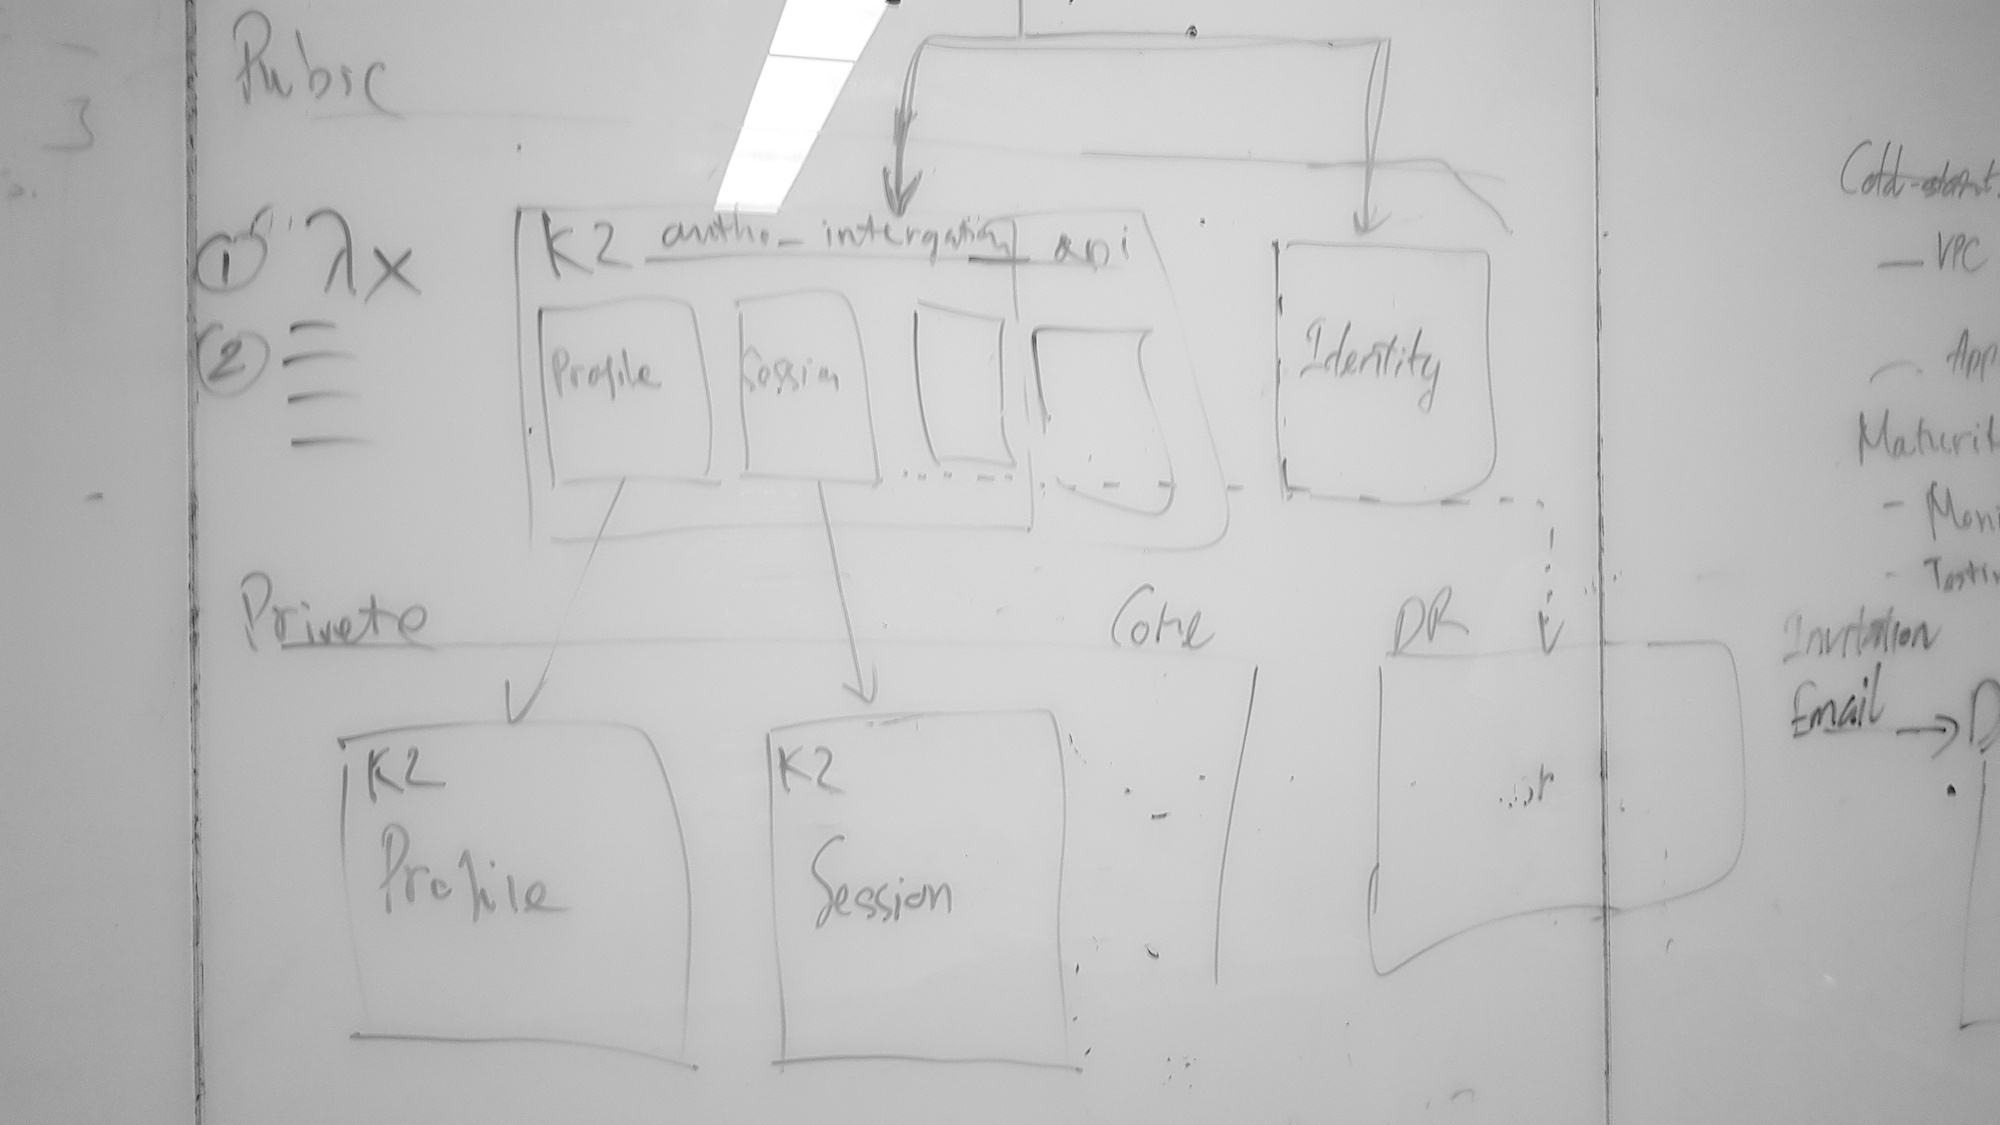arrow: (1525, 552, 1574, 663), (501, 650, 563, 732), (874, 135, 935, 217), (1342, 173, 1402, 242), (1902, 705, 1964, 766), (830, 646, 887, 712)
